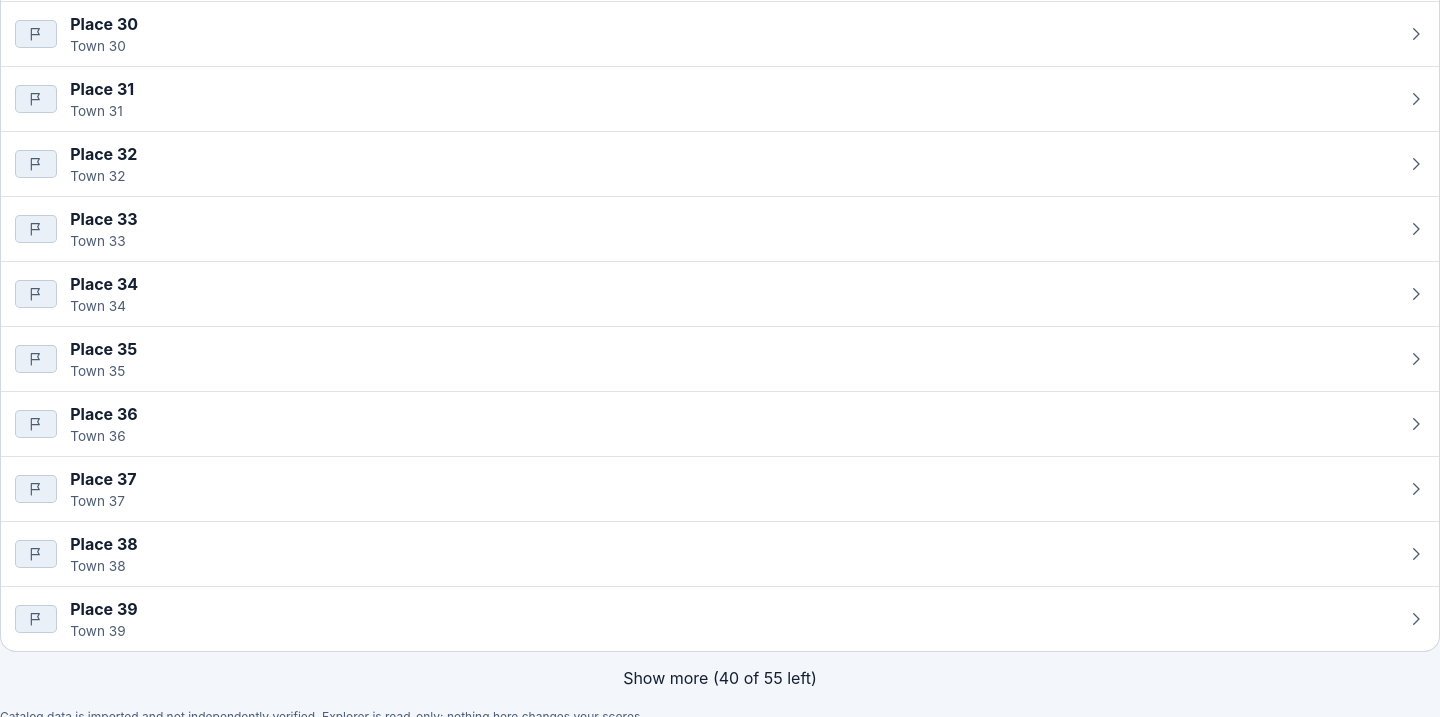
Scenario: Explorer on the demo engine › shows more rows in pages
This screenshot has width=1440, height=717.
(page scrolled)
Click the button "Show more (40 of 55 left)" at (720, 678), box [0,666,1439,690]
(page scrolled)
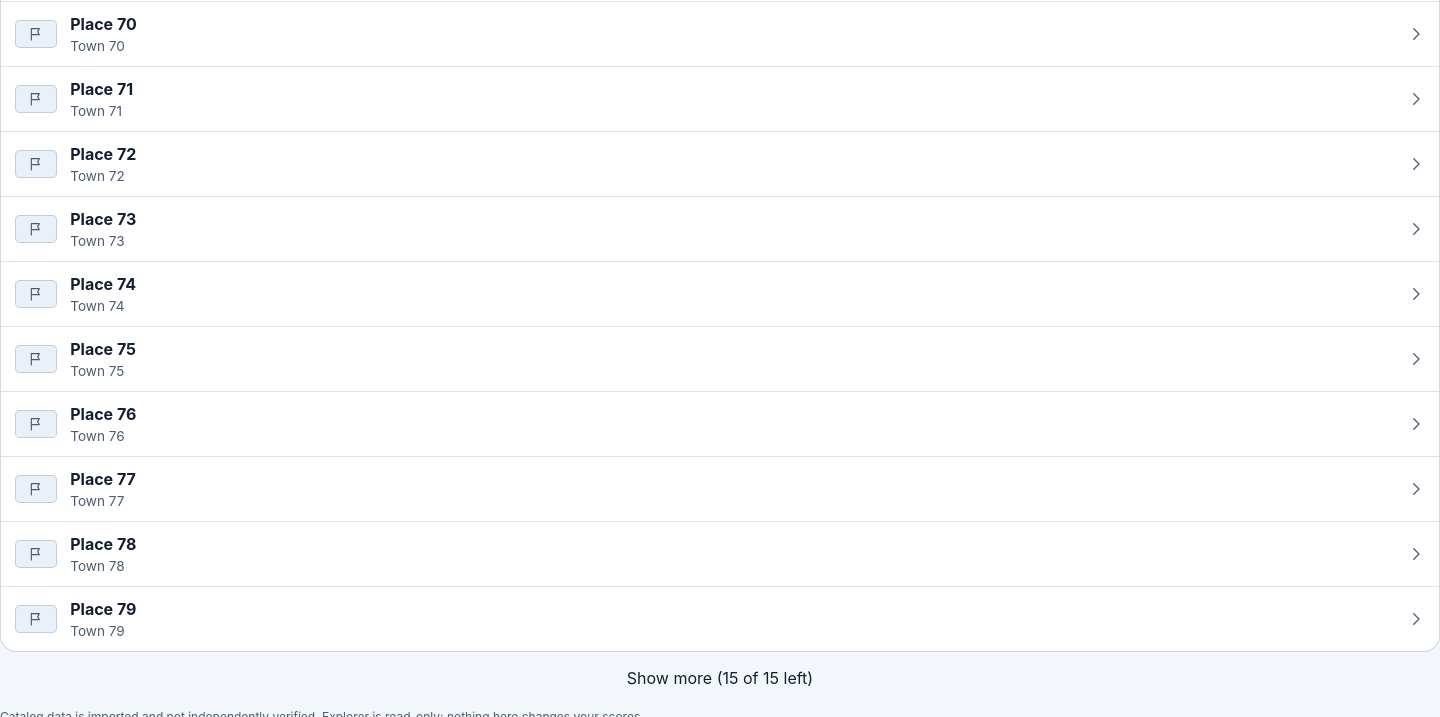
Click the button "Show more (15 of 15 left)" at (720, 678), box [0,666,1439,690]
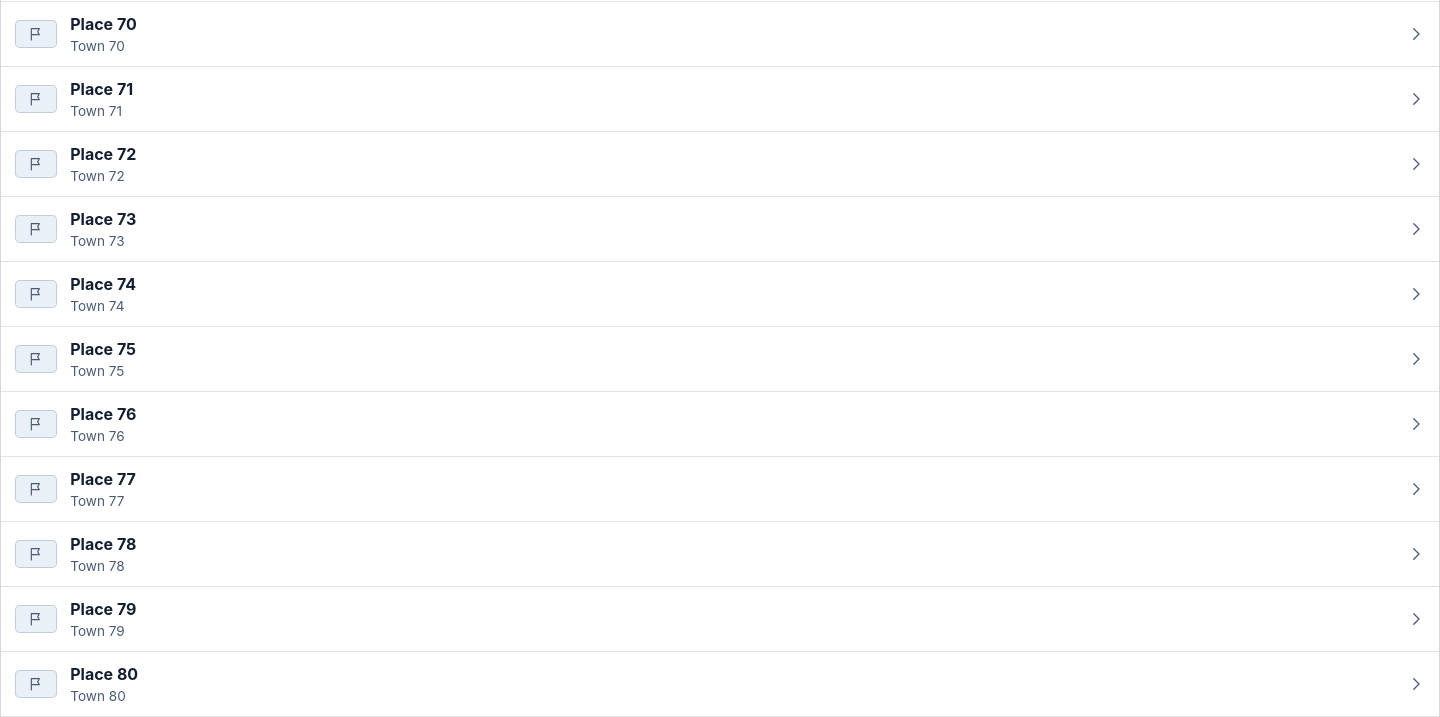
Now the button "Show more" is gone
